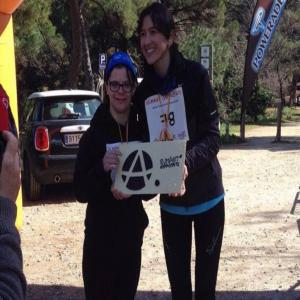Vehicle-registration-plate: (64, 134, 83, 144)
